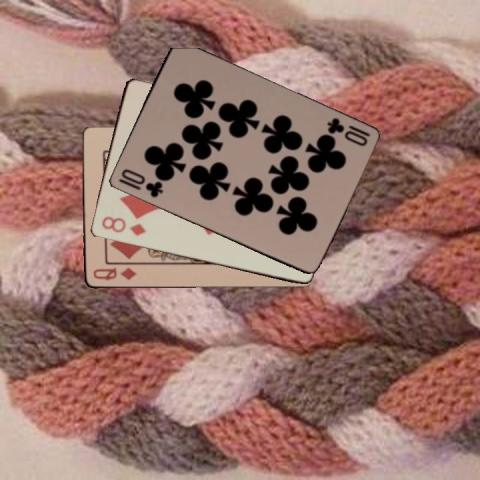10c: (115, 166, 164, 199), (324, 115, 372, 148)
8d: (98, 214, 147, 238)
Qd: (90, 264, 137, 283)
